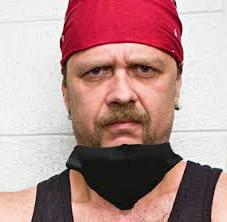mask_weared_incorrect: (69, 59, 173, 167)
